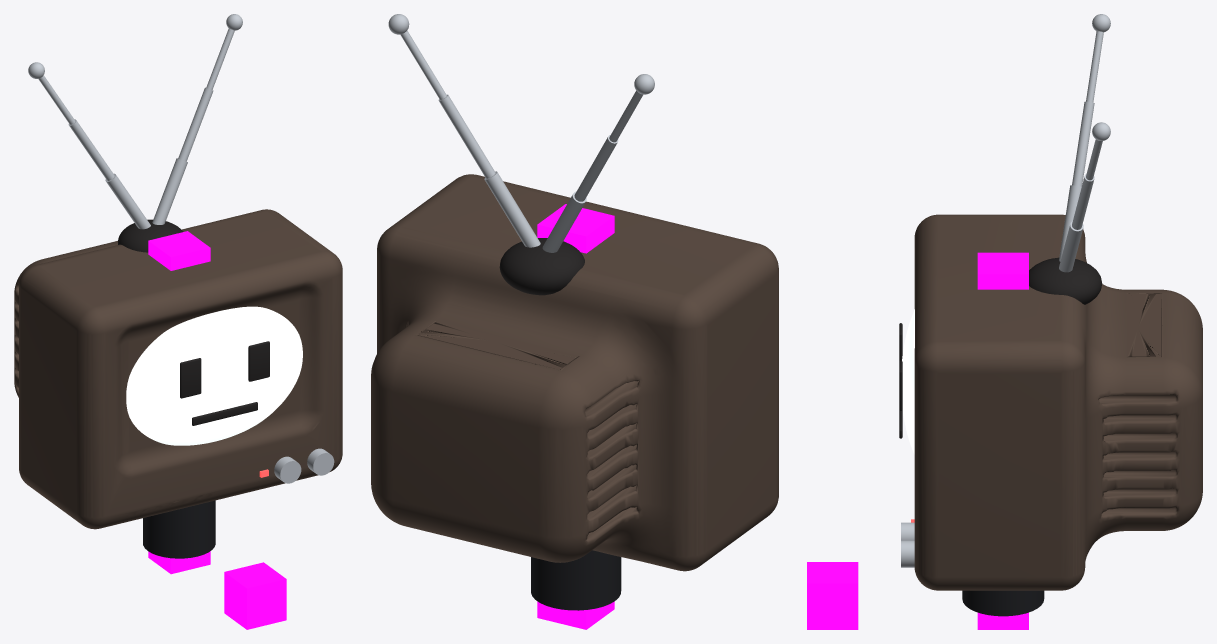
File: TVHead.fbx
The picture shows the model from 3 angles, left to right: view 1: azimuth 30°, elevation 25°; view 2: azimuth 150°, elevation 25°; view 3: azimuth 270°, elevation 25°; orthographic projection. The views are drawn at different scales.
Parts seen in each view (by area): view 1: Case, Screen, _Front, NeckJoint, _Up, AntennaBase, AntennaL0, ScreenEyeL, ScreenEyeR, _Root, AntennaR0, AntennaL1 (+5 smaller); view 2: Case, NeckJoint, AntennaBase, _Up, AntennaL0, _Root, AntennaL1, AntennaR0, AntennaR1, AntennaL2; view 3: Case, _Front, AntennaBase, _Up, NeckJoint, Screen, AntennaR1, _Root, AntennaL0, AntennaR2, AntennaL1, AntennaR0.
Boxes of the visible parts, <box> form: Case: <box>14,209,342,529</box>; Screen: <box>126,306,302,445</box>; _Front: <box>224,562,286,629</box>; NeckJoint: <box>143,500,215,558</box>; _Up: <box>148,231,210,270</box>; AntennaBase: <box>118,219,183,252</box>; AntennaL0: <box>152,158,187,224</box>; ScreenEyeL: <box>248,341,269,381</box>; ScreenEyeR: <box>180,358,201,398</box>; _Root: <box>148,551,210,574</box>; AntennaR0: <box>105,173,150,229</box>; AntennaL1: <box>178,87,213,161</box>; Case: <box>371,174,778,571</box>; NeckJoint: <box>531,550,621,610</box>; AntennaBase: <box>499,238,584,295</box>; _Up: <box>537,204,614,253</box>; AntennaL0: <box>484,171,540,247</box>; _Root: <box>537,601,614,629</box>; AntennaL1: <box>438,94,495,178</box>; AntennaR0: <box>542,191,586,252</box>; AntennaR1: <box>574,134,618,201</box>; AntennaL2: <box>400,30,446,99</box>; Case: <box>914,214,1202,590</box>; _Front: <box>807,562,858,629</box>; AntennaBase: <box>1029,257,1102,304</box>; _Up: <box>977,252,1028,289</box>; NeckJoint: <box>962,590,1044,616</box>; Screen: <box>902,309,914,454</box>; AntennaR1: <box>1072,101,1094,186</box>; _Root: <box>977,612,1028,629</box>; AntennaL0: <box>1059,221,1083,272</box>; AntennaR2: <box>1086,31,1103,102</box>; AntennaL1: <box>1072,174,1094,229</box>; AntennaR0: <box>1059,185,1081,261</box>.
Size of the model in its own units: 2 by 3.56 by 2.32.
